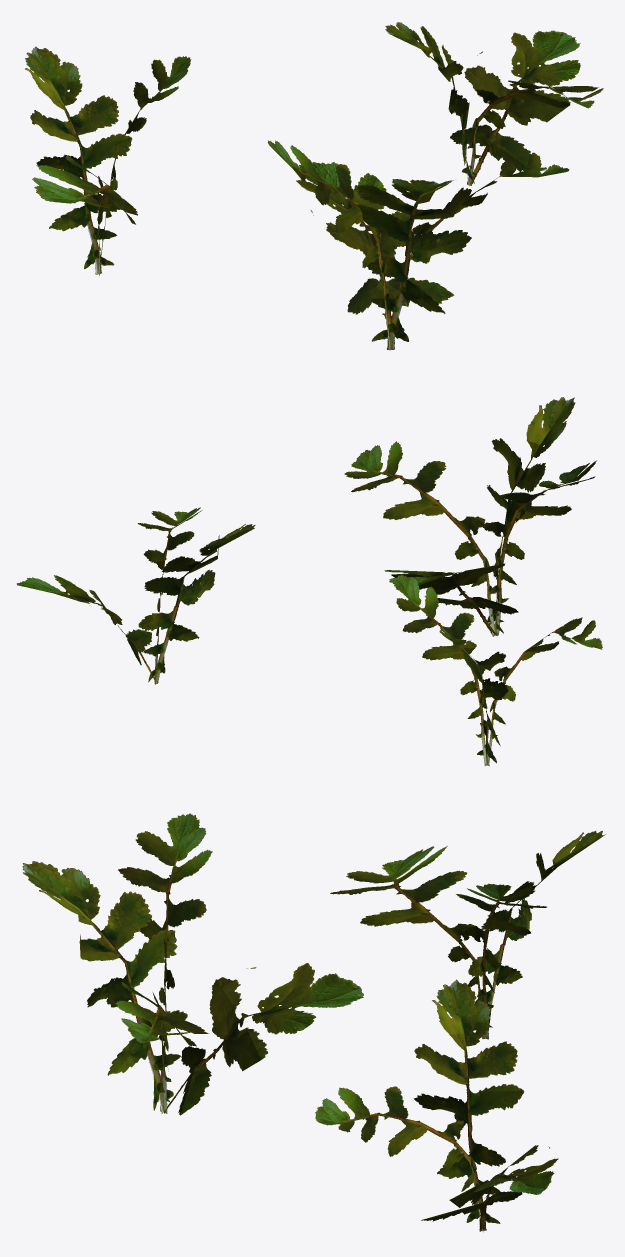
Rendered from Lamium_LOD0.fbx.
3 renders of one model, top to bottom at view 1: azimuth 30°, elevation 25°; view 2: azimuth 150°, elevation 25°; view 3: azimuth 270°, elevation 25°, orthographic. The views are drawn at different scales.
Parts seen in each view (by area): view 1: Lamium_LOD0; view 2: Lamium_LOD0; view 3: Lamium_LOD0.
Boxes of the visible parts, bbox=[...] form: Lamium_LOD0: bbox=[25, 22, 603, 350]; Lamium_LOD0: bbox=[16, 397, 602, 766]; Lamium_LOD0: bbox=[22, 813, 605, 1232].
Bounding box in the file's own units: 0.5026 × 0.1889 × 0.3982.
